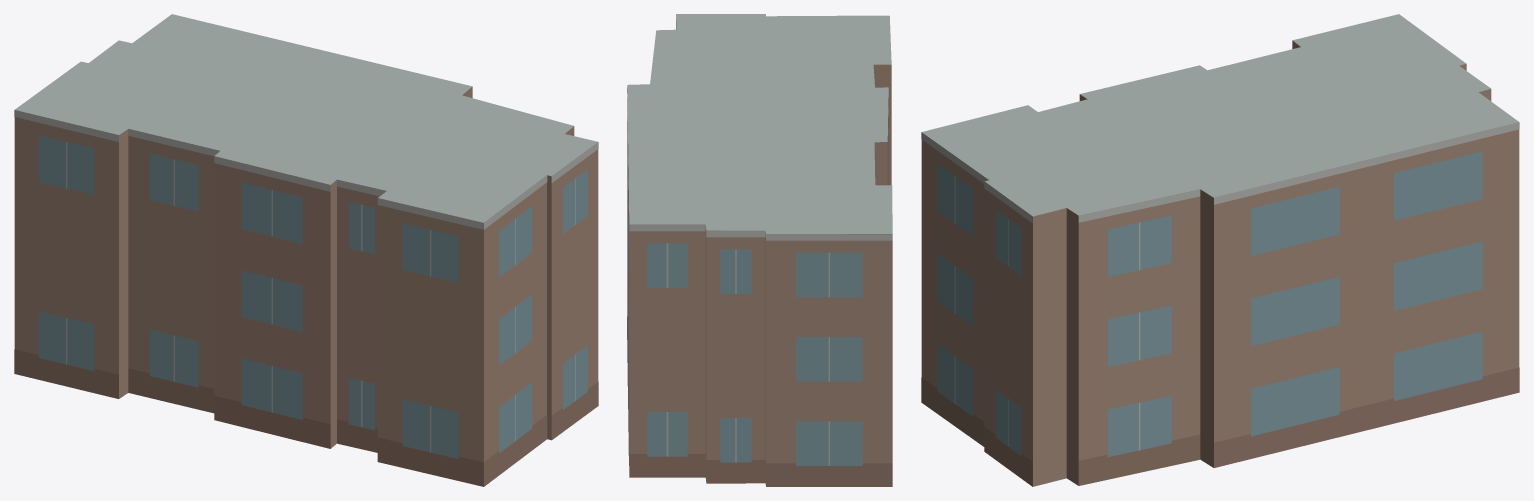
File: survey-upis-32961346.glb
The picture shows the model from 3 angles, left to right: view 1: azimuth 30°, elevation 25°; view 2: azimuth 150°, elevation 25°; view 3: azimuth 270°, elevation 25°; orthographic projection. The views are drawn at different scales.
Visible parts, largest first — view 1: survey-upis-32961346.tmp; view 2: survey-upis-32961346.tmp; view 3: survey-upis-32961346.tmp.
Part boxes in pixels (x1=…): survey-upis-32961346.tmp: x1=14, y1=14, x2=598, y2=486; survey-upis-32961346.tmp: x1=627, y1=14, x2=892, y2=486; survey-upis-32961346.tmp: x1=921, y1=14, x2=1519, y2=486.
Size of the model in its own units: 14.78 by 9.2 by 18.45.
